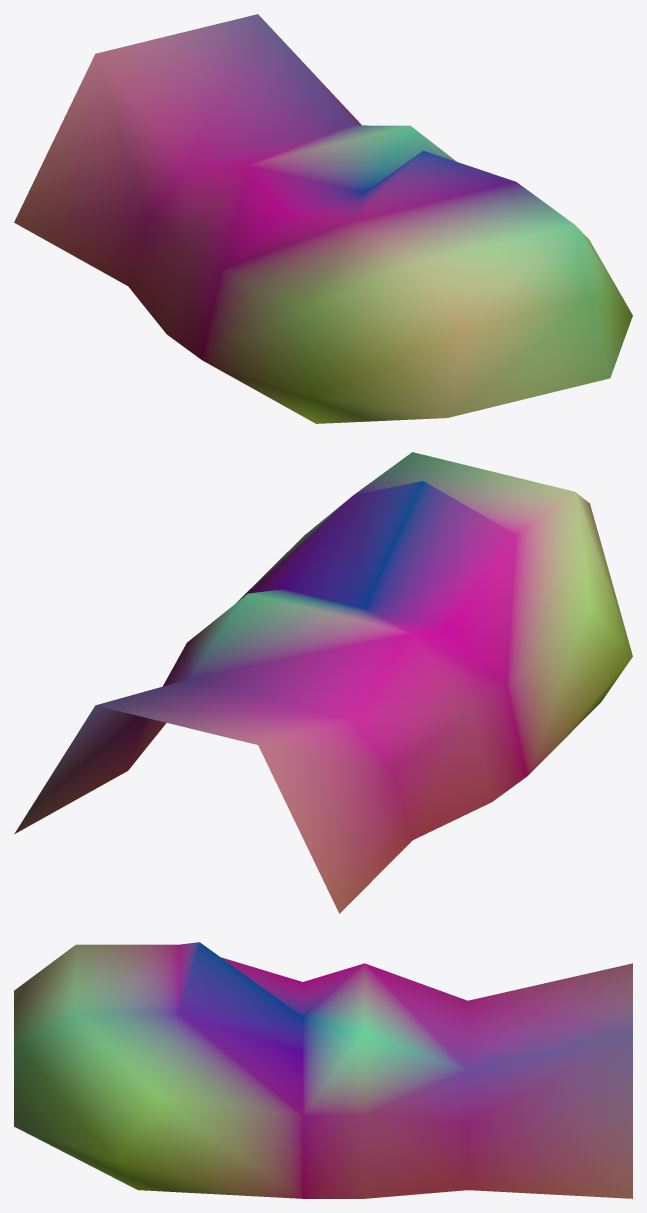
3 renders of one model, top to bottom at view 1: azimuth 30°, elevation 25°; view 2: azimuth 150°, elevation 25°; view 3: azimuth 270°, elevation 25°, orthographic. The views are drawn at different scales.
Parts seen in each view (by area): view 1: part; view 2: part; view 3: part.
Part boxes in pixels (left/top/right/bottom): part: left=14, top=14, right=632, bottom=423; part: left=14, top=452, right=632, bottom=913; part: left=14, top=942, right=632, bottom=1198.
Bounding box in the file's own units: 16 × 10 × 30.
